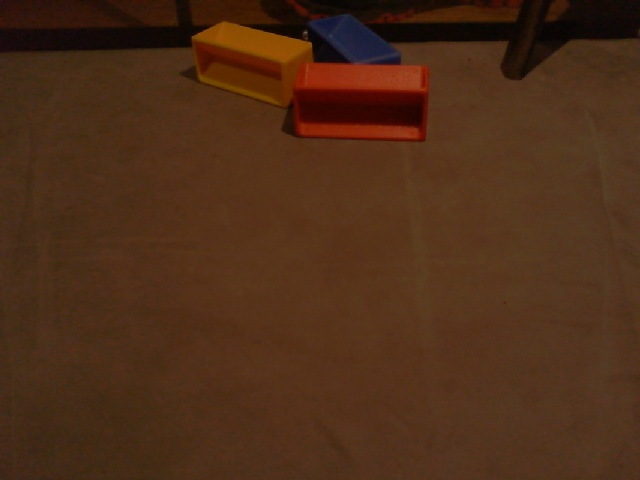BlueSample: (305, 12, 400, 78)
RedSample: (290, 58, 431, 147)
YellowSample: (189, 20, 313, 109)
